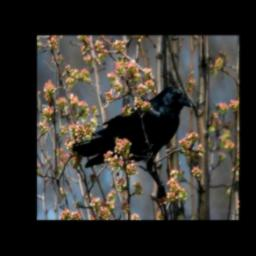Crow: (75, 83, 198, 196)
